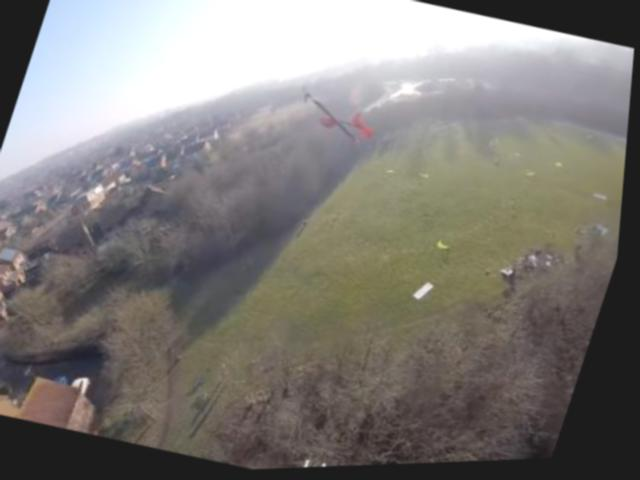uav: (276, 81, 395, 167)
